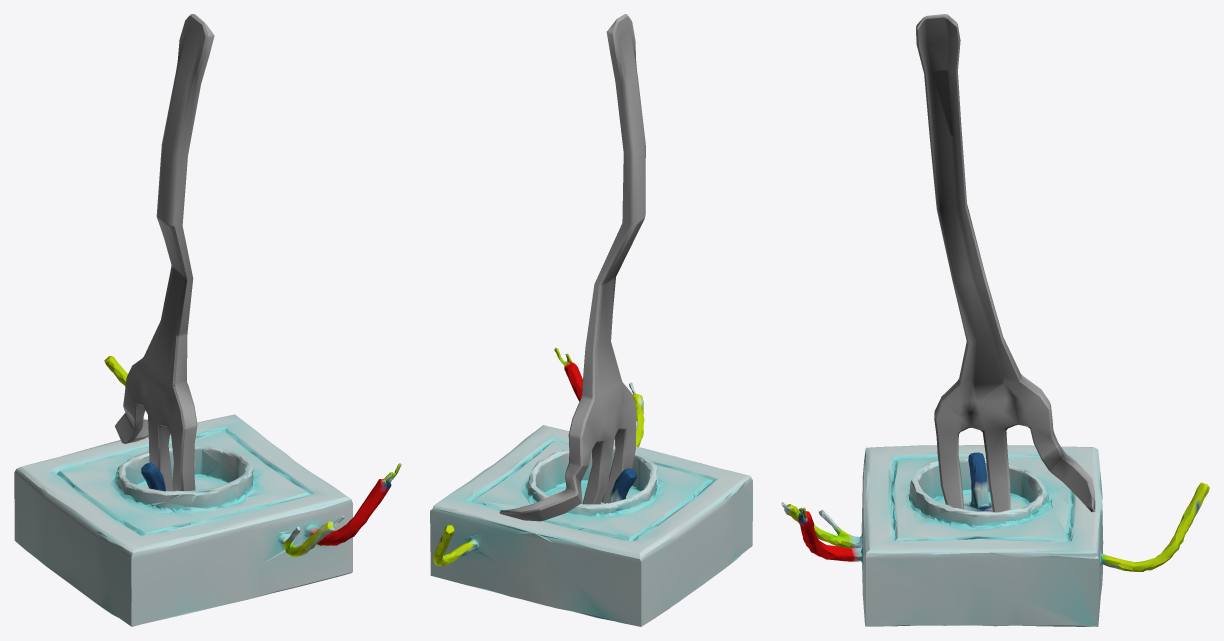
Rendered from msh_item_ForkHole.FBX.
3 views of the same model, side by side, from view 1: azimuth 30°, elevation 25°; view 2: azimuth 150°, elevation 25°; view 3: azimuth 270°, elevation 25° (orthographic). The views are drawn at different scales.
Parts seen in each view (by area): view 1: msh_Item_ForkHole, msh_Item_Fork; view 2: msh_Item_ForkHole, msh_Item_Fork; view 3: msh_Item_ForkHole, msh_Item_Fork.
Boxes of the visible parts, <box> form: msh_Item_ForkHole: <box>14,356,401,626</box>; msh_Item_Fork: <box>114,14,214,490</box>; msh_Item_ForkHole: <box>430,348,752,626</box>; msh_Item_Fork: <box>499,14,645,521</box>; msh_Item_ForkHole: <box>781,445,1209,626</box>; msh_Item_Fork: <box>916,14,1095,512</box>.
Size of the model in its own units: 70.31 by 157 by 108.
